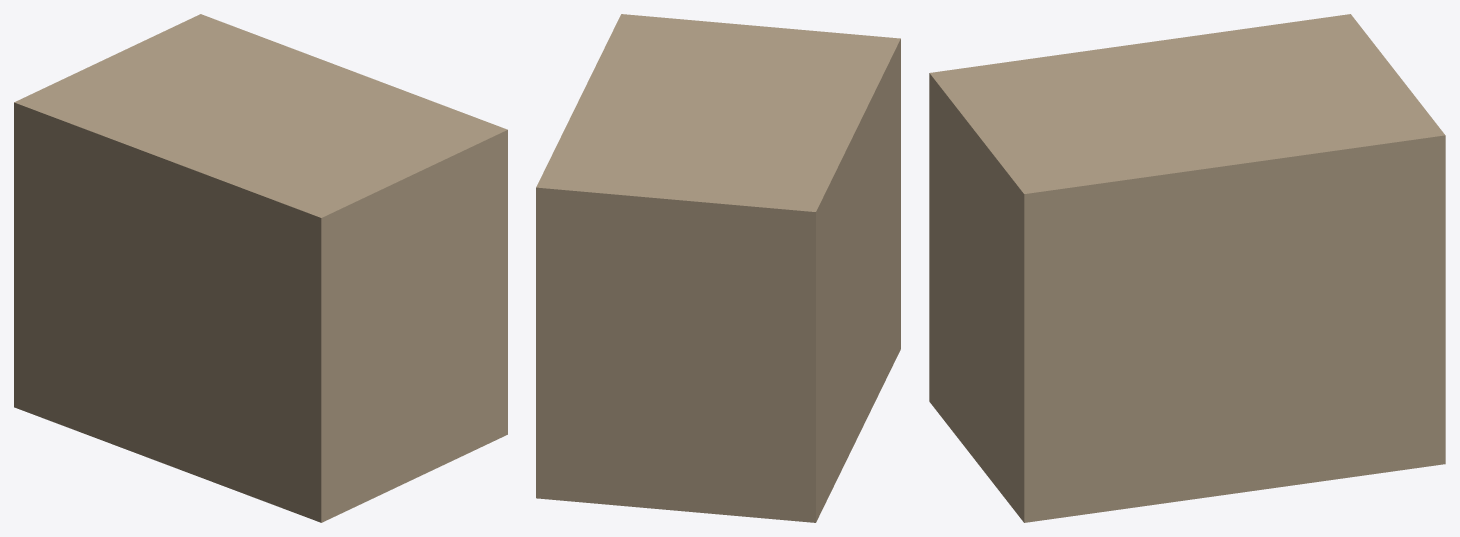
The model's file is bld_101791580.dae.
3 views of the same model, side by side, from view 1: azimuth 30°, elevation 25°; view 2: azimuth 150°, elevation 25°; view 3: azimuth 270°, elevation 25° (orthographic). The views are drawn at different scales.
Visible parts, largest first — view 1: bld_101791580; view 2: bld_101791580; view 3: bld_101791580.
Part boxes in pixels (x1,y1,x2,y2): bld_101791580: [14, 14, 507, 522]; bld_101791580: [536, 14, 900, 522]; bld_101791580: [929, 14, 1445, 522].
Size of the model in its own units: 9.4 by 11.38 by 8.
